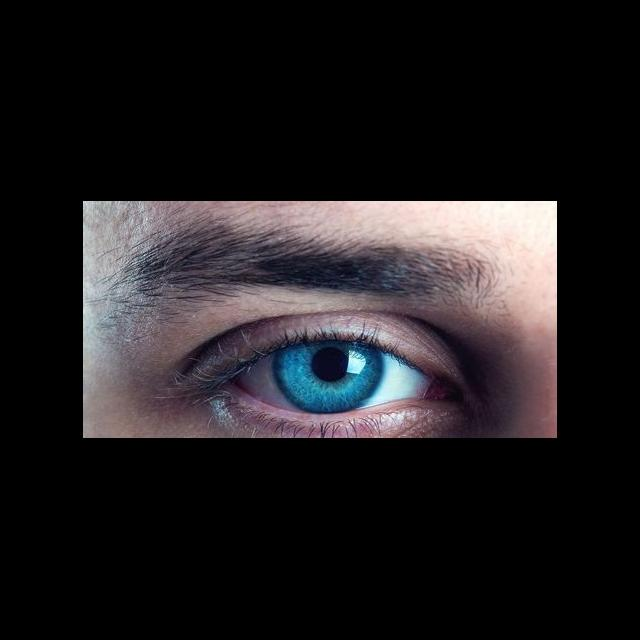eye: (232, 340, 429, 414)
iris: (276, 342, 385, 411)
